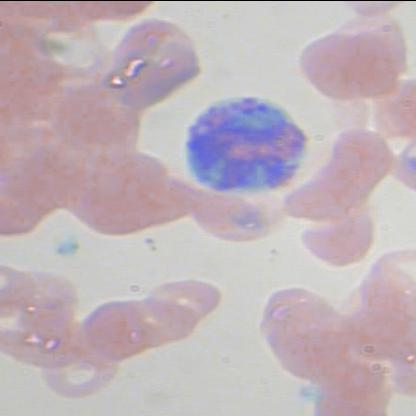Platelets: (53, 237, 87, 259)
RBC: (292, 22, 404, 106), (182, 188, 276, 248), (38, 337, 118, 401), (141, 268, 226, 328), (294, 208, 378, 268)
WBC: (180, 88, 312, 198)
